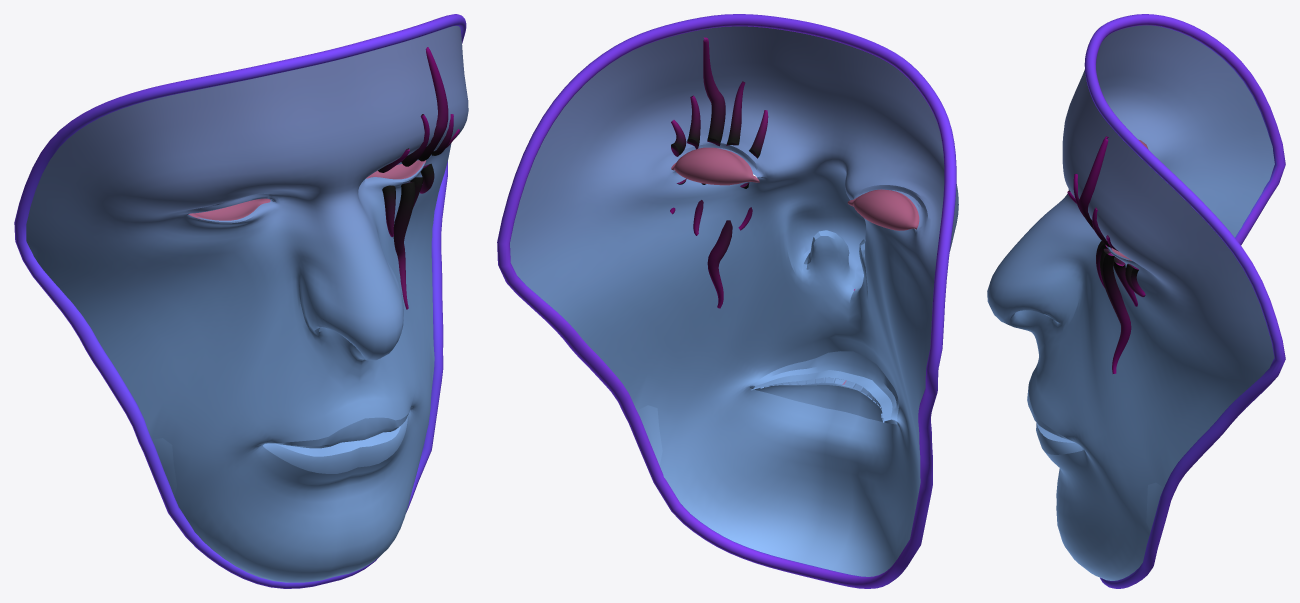
File: Mask_Normal1.glb
3 renders of one model, left to right at view 1: azimuth 30°, elevation 25°; view 2: azimuth 150°, elevation 25°; view 3: azimuth 270°, elevation 25°, orthographic. The views are drawn at different scales.
Visible parts, largest first — view 1: mask1_Eye.001; view 2: mask1_Eye.001; view 3: mask1_Eye.001.
Part boxes in pixels (x1=…): mask1_Eye.001: x1=14, y1=14, x2=468, y2=588; mask1_Eye.001: x1=497, y1=14, x2=958, y2=588; mask1_Eye.001: x1=987, y1=14, x2=1285, y2=588.
Bounding box in the file's own units: 0.1444 × 0.1701 × 0.0905.
Materials: 1 (1 with a texture image).
